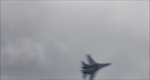maybay_muctieu: (81, 52, 113, 80)
